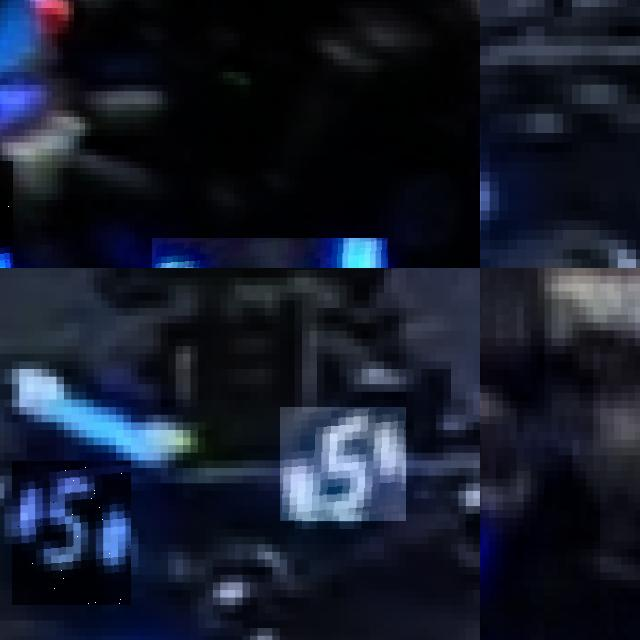B1: (151, 238, 388, 268)
B5: (12, 461, 131, 605), (280, 407, 406, 521)
